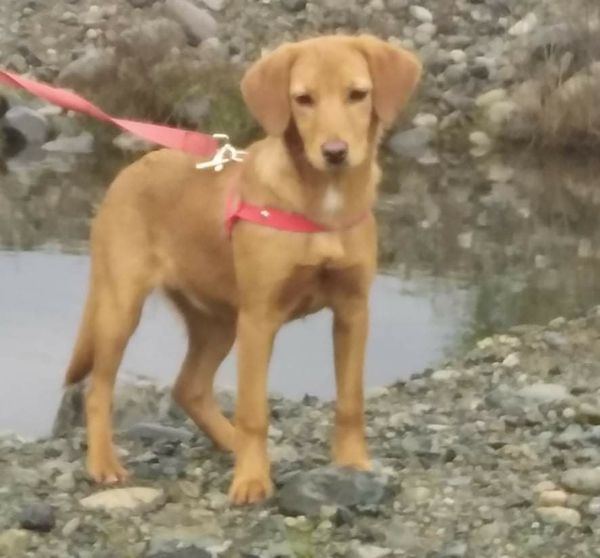dog: (43, 32, 430, 510)
